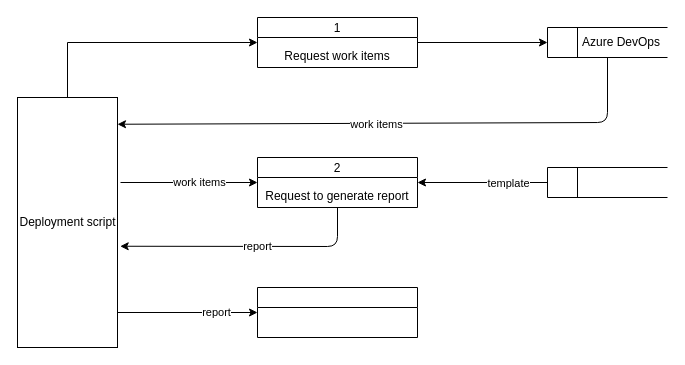
Image size: 685x365. Some labels were removed from this diagram. Each missing label, with the box of its shape:
3 Publish report: (256, 286, 418, 338)
Blob storage: (546, 166, 668, 198)
